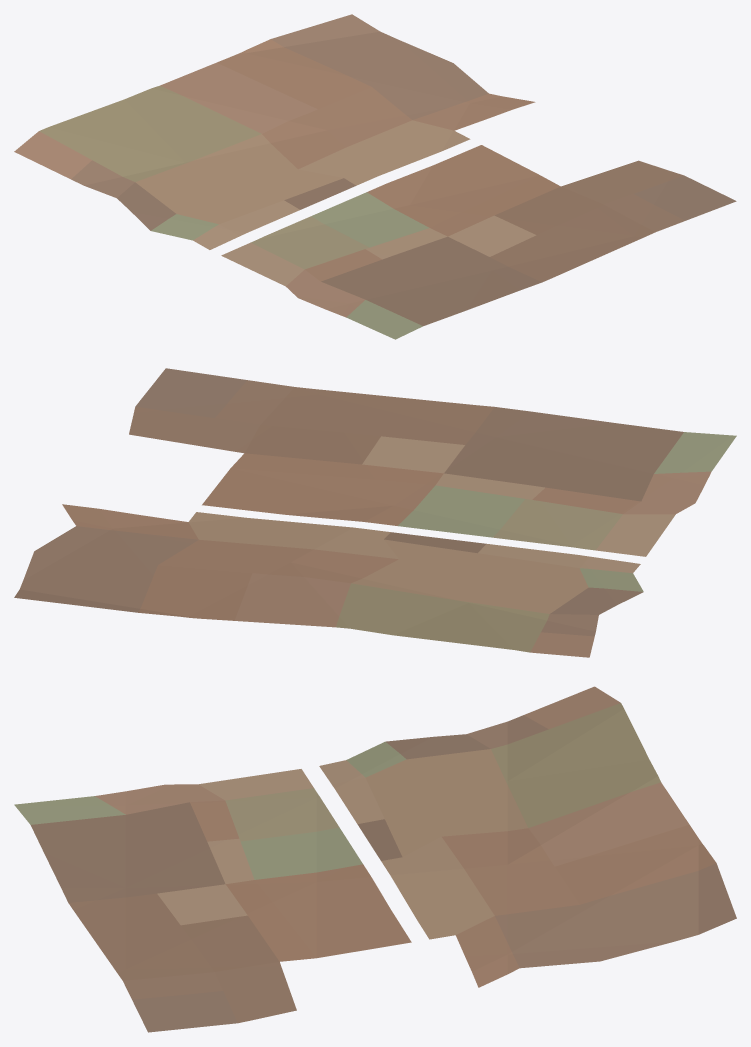
Rendered from farm_-9_-5_soil.glb.
3 renders of one model, top to bottom at view 1: azimuth 30°, elevation 25°; view 2: azimuth 150°, elevation 25°; view 3: azimuth 270°, elevation 25°, orthographic. The views are drawn at different scales.
Parts seen in each view (by area): view 1: geometry_0; view 2: geometry_0; view 3: geometry_0.
Part boxes in pixels (x1,y1,x2,y2): geometry_0: [14, 14, 736, 339]; geometry_0: [14, 368, 736, 657]; geometry_0: [14, 686, 736, 1032].
Size of the model in its own units: 299 by 23.08 by 303.
